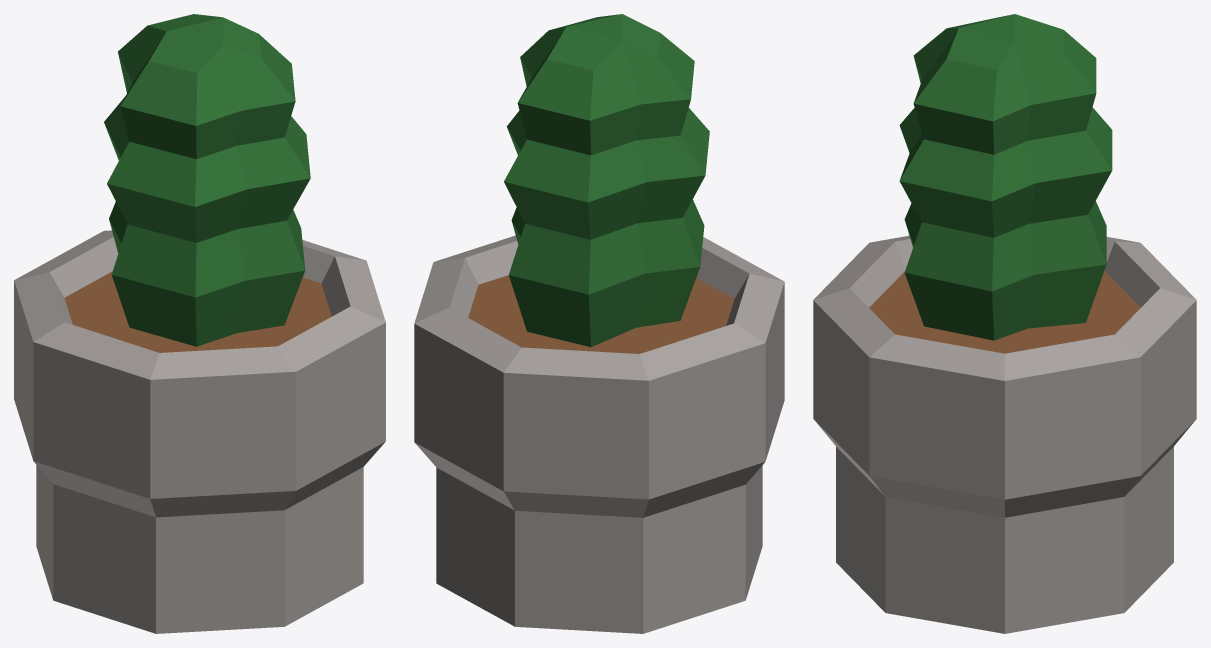
Rendered from furniture_pot-small-circle-cactus-a.fbx.
3 renders of one model, left to right at view 1: azimuth 30°, elevation 25°; view 2: azimuth 150°, elevation 25°; view 3: azimuth 270°, elevation 25°, orthographic.
Visible parts, largest first — view 1: furniture_pot_small_circle_cactus_a; view 2: furniture_pot_small_circle_cactus_a; view 3: furniture_pot_small_circle_cactus_a.
Part boxes in pixels (left/top/right/bottom): furniture_pot_small_circle_cactus_a: left=14, top=14, right=385, bottom=633; furniture_pot_small_circle_cactus_a: left=414, top=14, right=784, bottom=633; furniture_pot_small_circle_cactus_a: left=813, top=14, right=1196, bottom=633.
Bounding box in the file's own units: 130 × 200 × 130.
